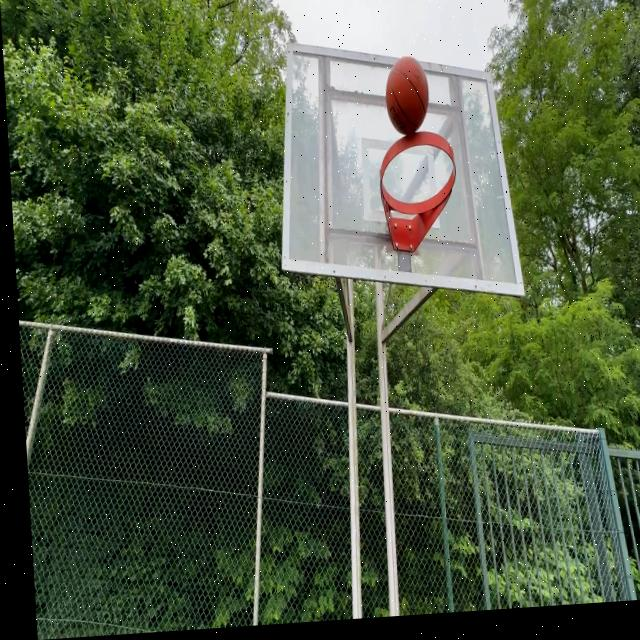rebound_hit: (383, 54, 433, 149)
